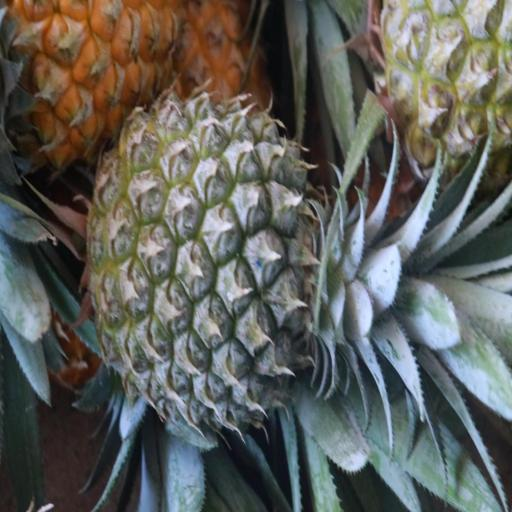Pineapple - v8 v1: (7, 0, 184, 165)
